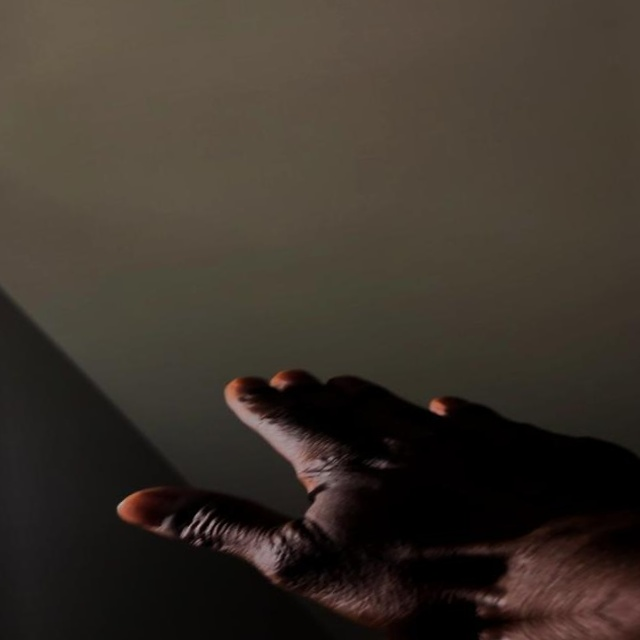Paper: (94, 331, 640, 640)
